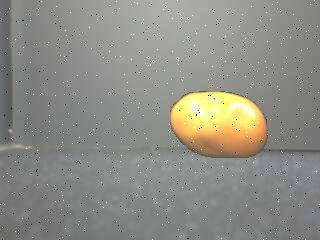Potato: (167, 90, 269, 162)
